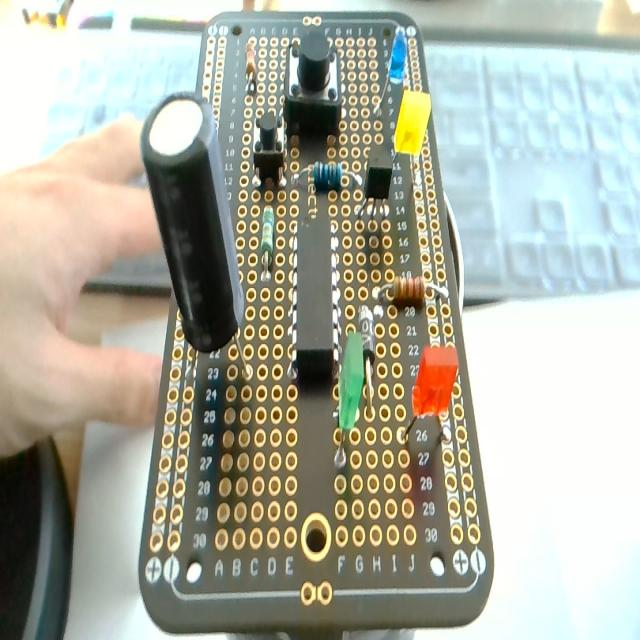Electrolytic capacitor: (142, 93, 251, 388)
IC: (287, 228, 344, 384)
diode: (358, 305, 376, 416)
led: (404, 343, 458, 446), (334, 330, 363, 472), (372, 29, 406, 115), (393, 89, 431, 157)
resistor: (292, 161, 361, 193), (377, 277, 445, 309), (254, 193, 274, 286), (241, 37, 259, 105)
switch: (285, 28, 343, 136), (251, 110, 286, 187)
transistor: (356, 134, 394, 222)
